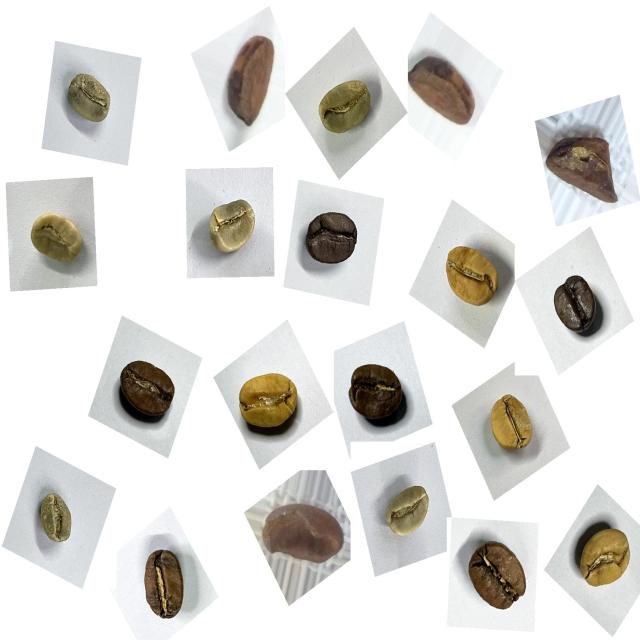bad: (538, 117, 628, 219), (212, 26, 282, 138), (258, 487, 346, 576), (405, 43, 482, 136)
dark: (339, 352, 414, 439), (296, 196, 367, 278), (541, 267, 609, 351)
green: (308, 69, 382, 150), (196, 185, 266, 268), (21, 200, 93, 280), (58, 62, 124, 138), (375, 477, 438, 552), (29, 484, 86, 556)
light: (232, 360, 310, 450), (565, 514, 637, 604), (437, 231, 510, 318), (478, 385, 542, 468)
medium: (455, 530, 536, 625), (111, 347, 186, 433), (134, 543, 198, 633)
